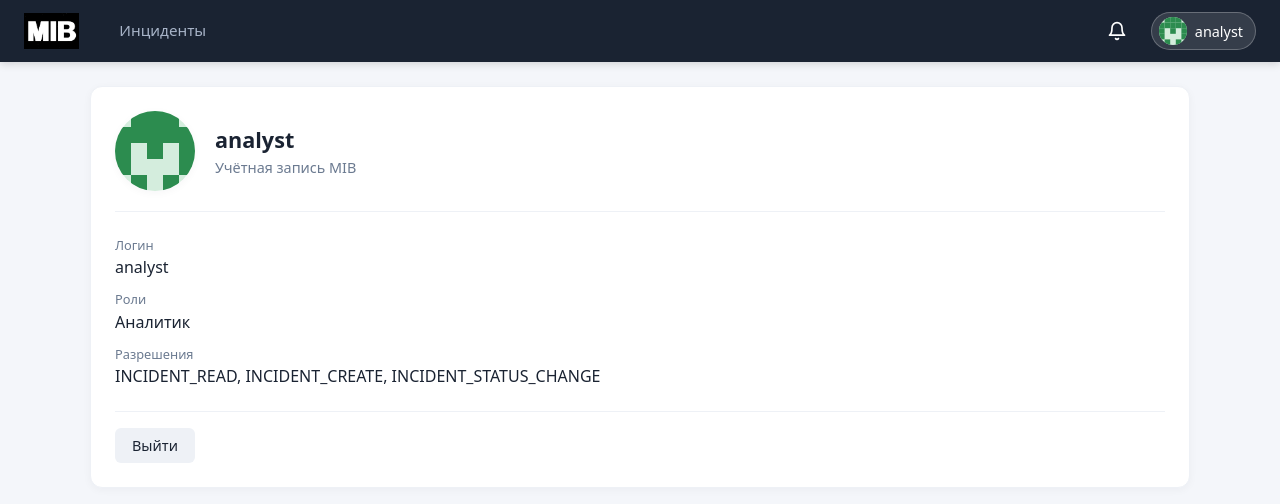
Test case: App › restores session from localStorage
Click the link "Инциденты".
click(163, 30)  # box [119,20,206,40]
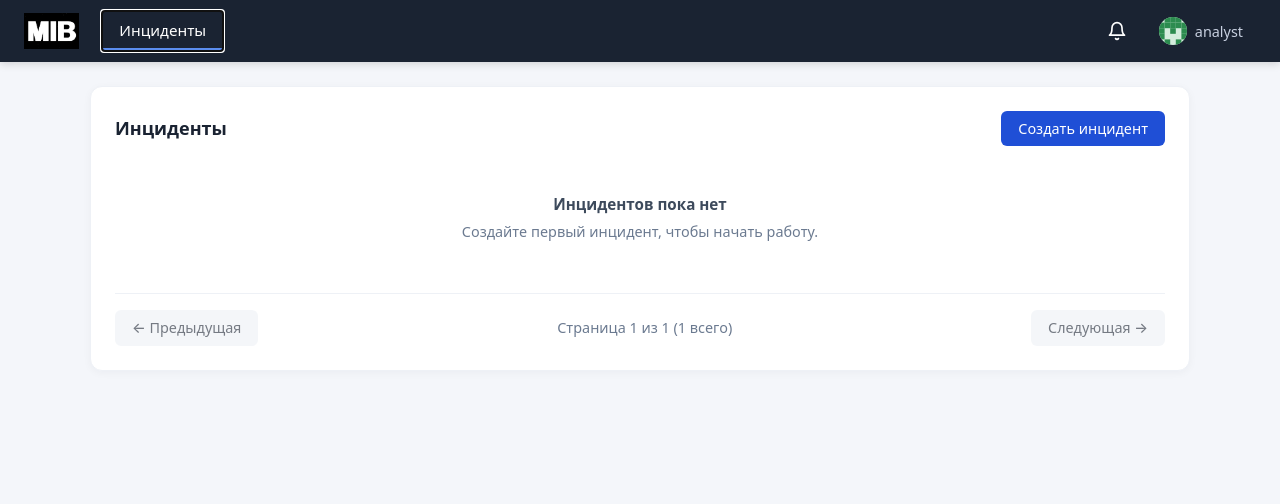
Expected: the heading "Инциденты" is shown, [115,116,227,141]
